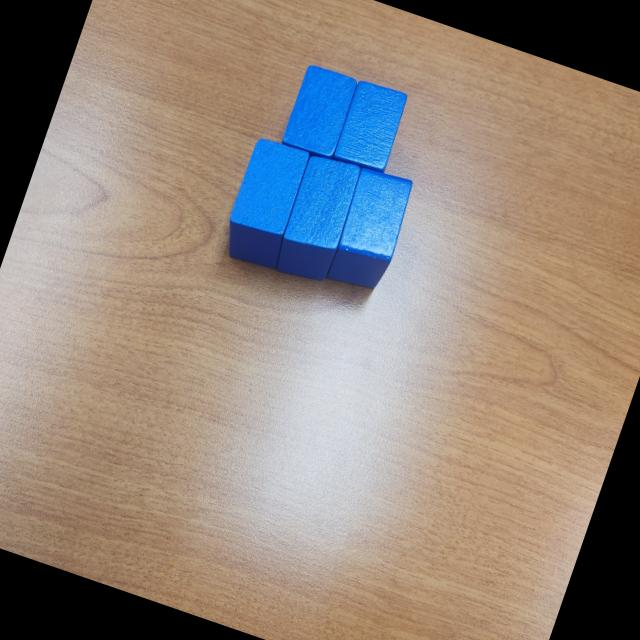blue: (215, 134, 314, 272), (269, 148, 365, 288), (323, 163, 418, 296), (279, 61, 362, 162), (329, 77, 410, 176)
